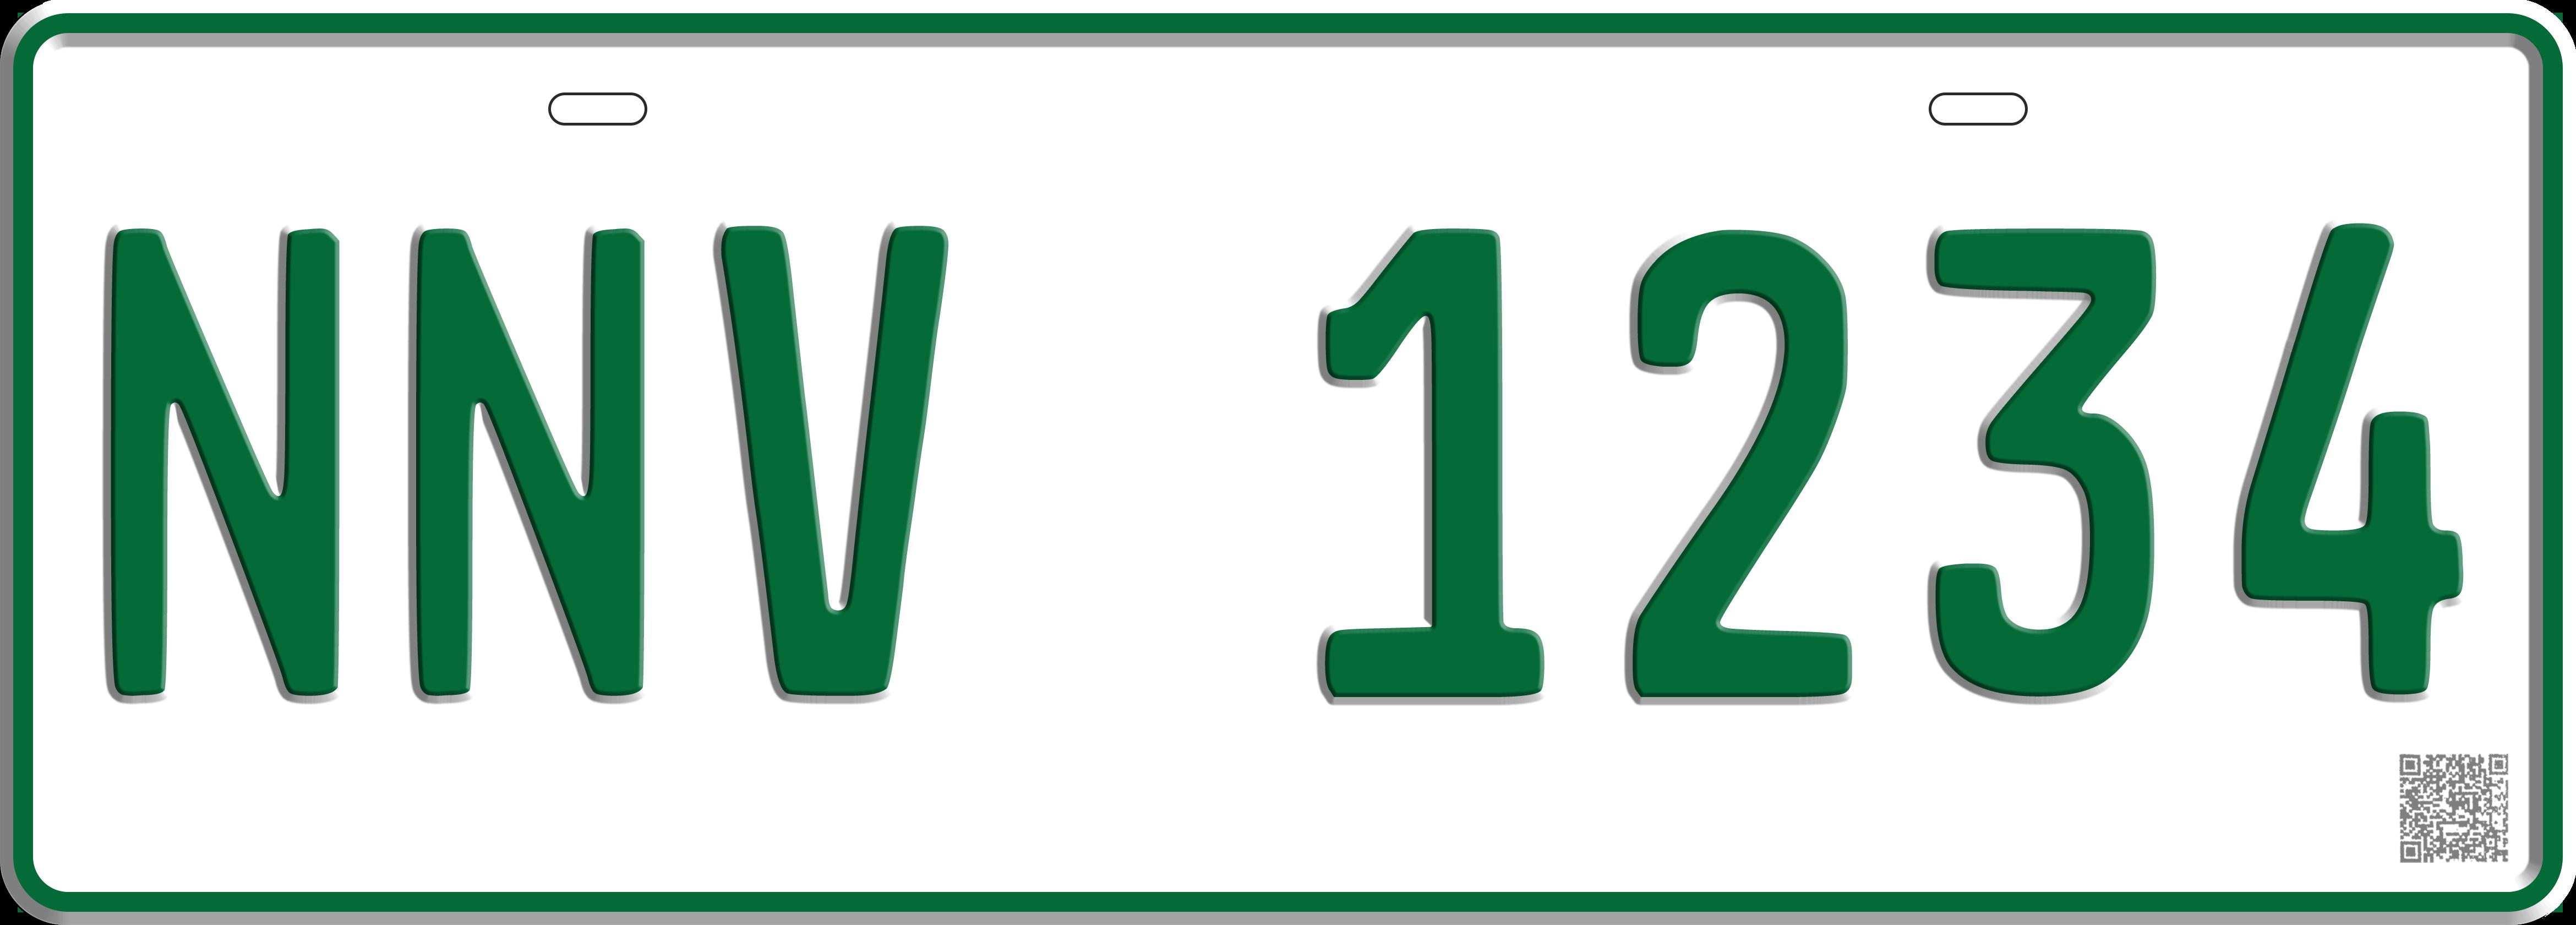plate: (20, 0, 2563, 925)
